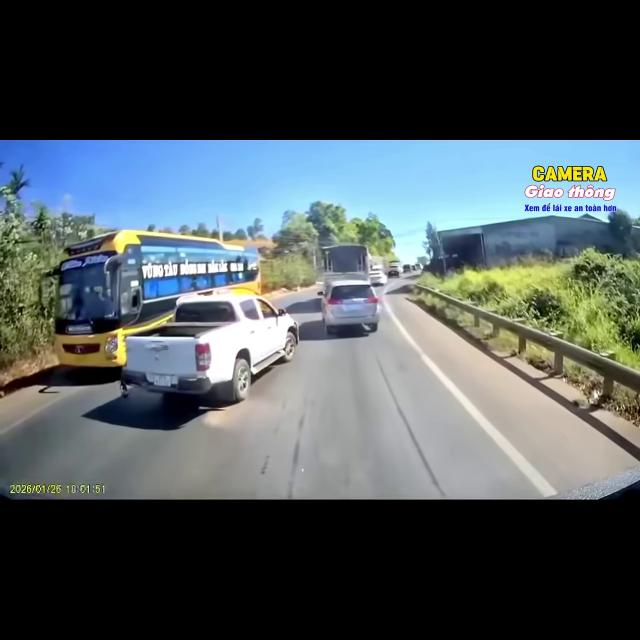bus: (46, 230, 260, 367)
car: (121, 294, 298, 403), (318, 280, 379, 334), (369, 271, 387, 285), (387, 265, 400, 277), (403, 264, 411, 272), (411, 265, 417, 270)
truck: (321, 244, 370, 283)
